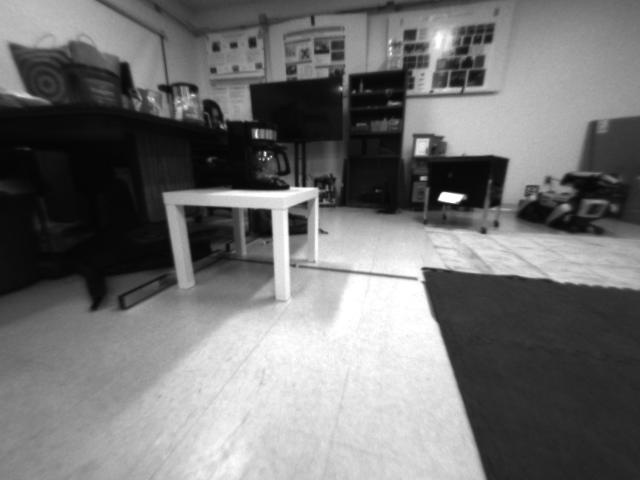coffee_pot: (225, 117, 293, 191)
